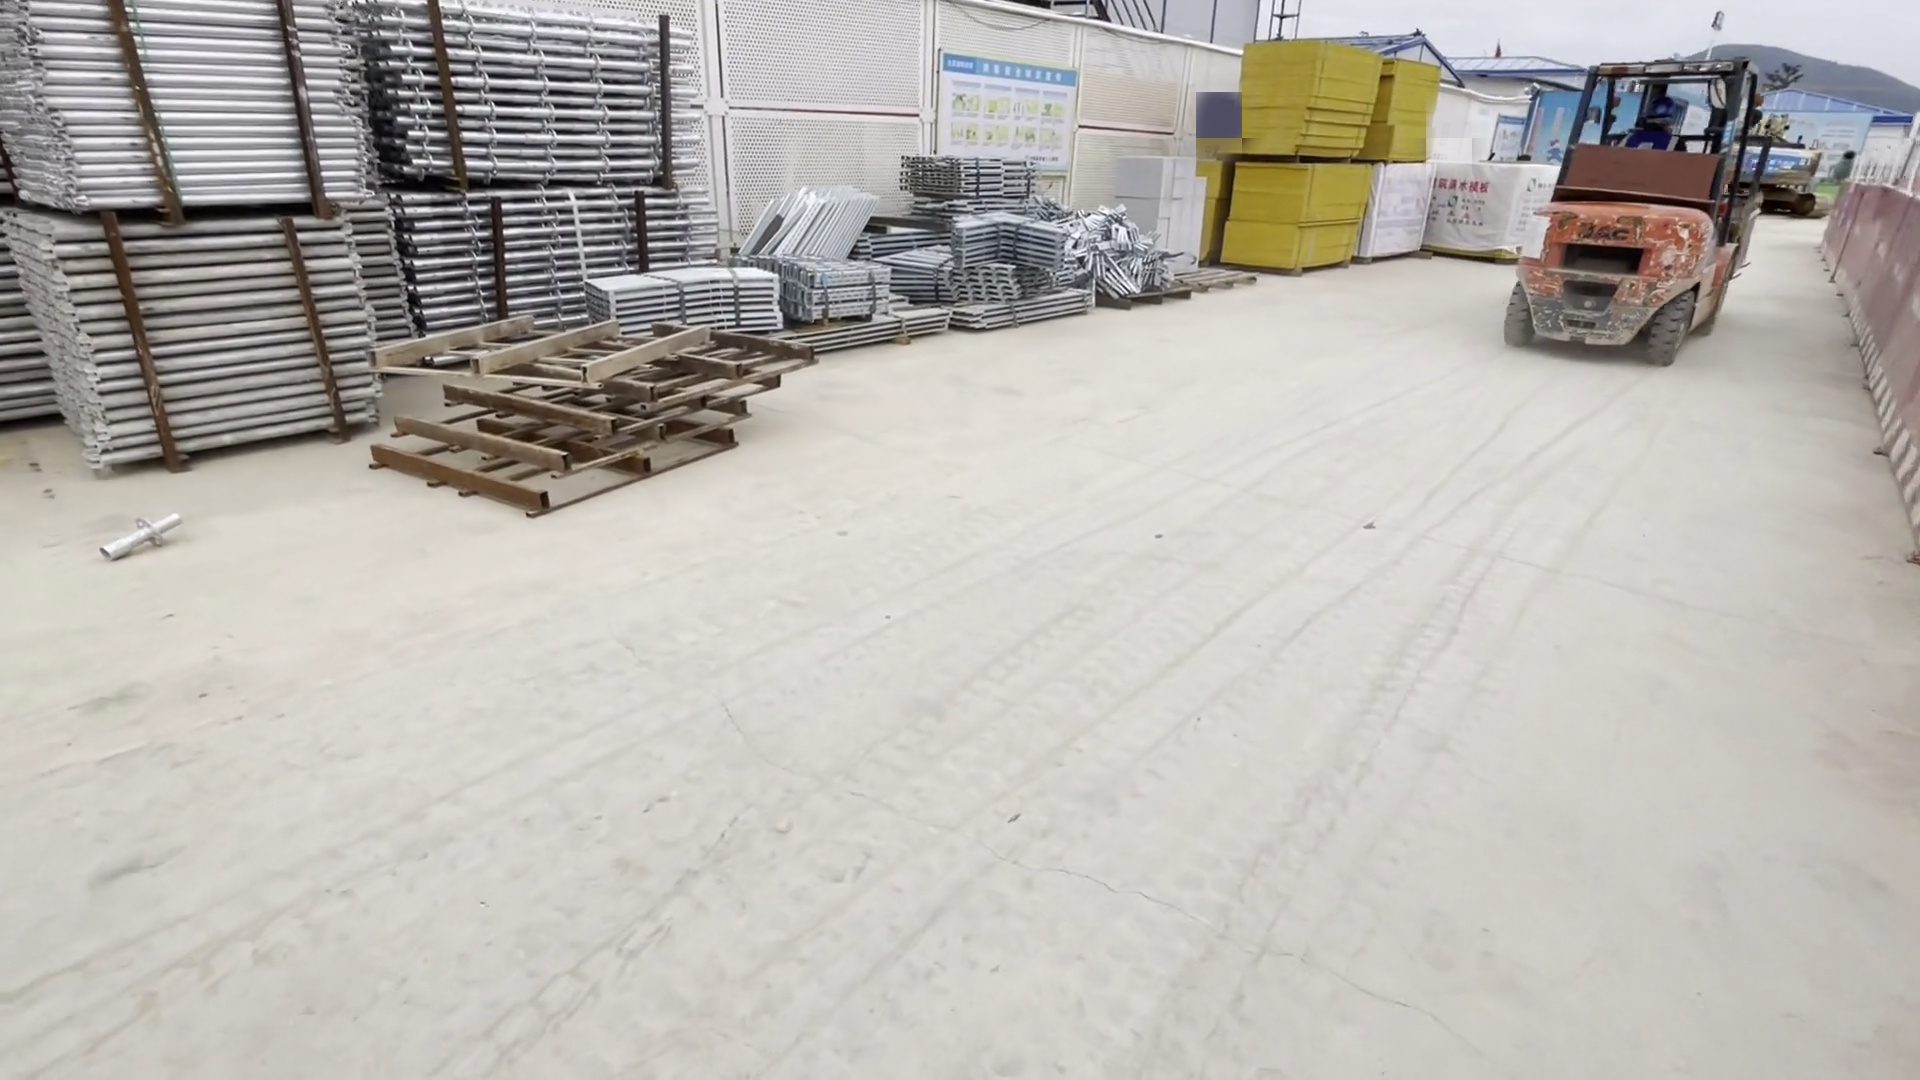board: (1245, 36, 1369, 276)
brick: (1117, 149, 1207, 266)
scaffold: (7, 5, 767, 451), (752, 146, 1197, 355)
